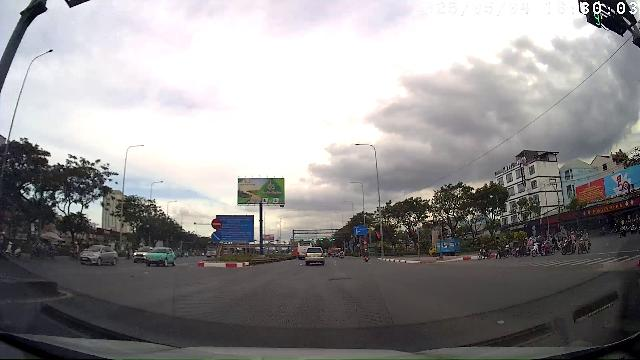102-cam-di-nguoc-chieu: (211, 218, 222, 229)
302a-huong-phai-di-vong-chuong-ngai-vat-1: (211, 231, 223, 243)
